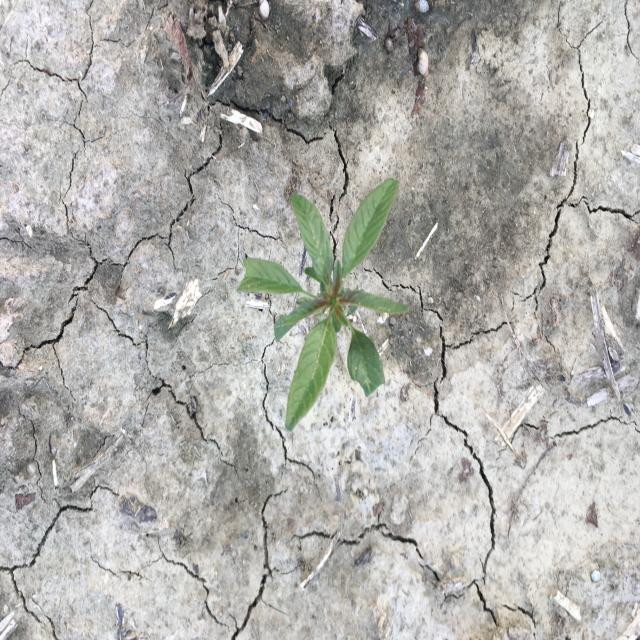Waterhemp: (235, 176, 410, 434)
